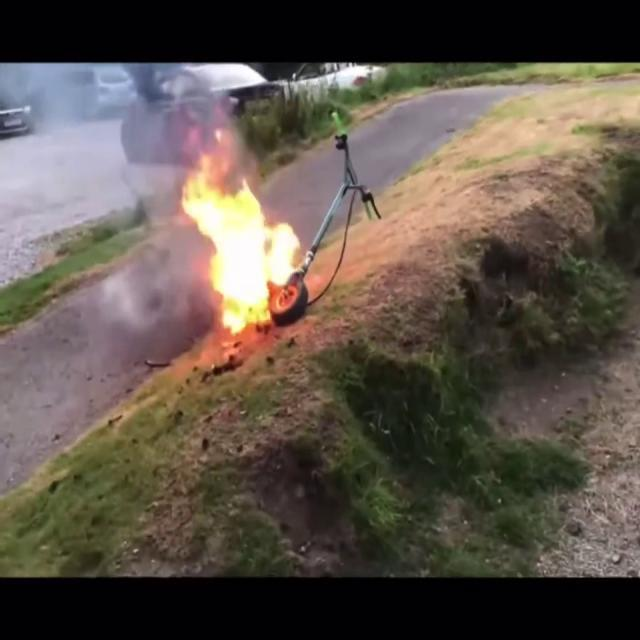Fire: (176, 140, 304, 330)
Smoke: (96, 98, 202, 374)
